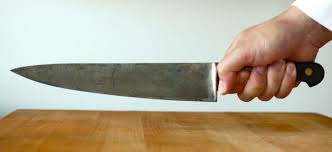weapon-unusual: (6, 49, 327, 115)
